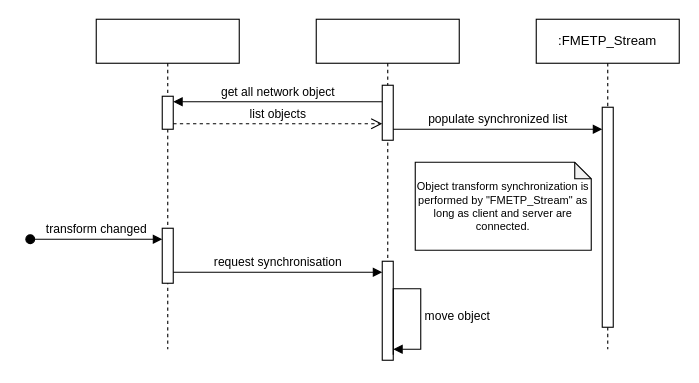
The diagram is 699 pixels wide and 383 high, and some of its shapes have lost their labels. The shapes that lost their labels are listed below. From the top down, each one's box as (x1, y1, x2, y2) in pixels, then its label:
(95, 18, 239, 349): :HostNetworkObject
(315, 18, 459, 349): :HostNetworkManager
